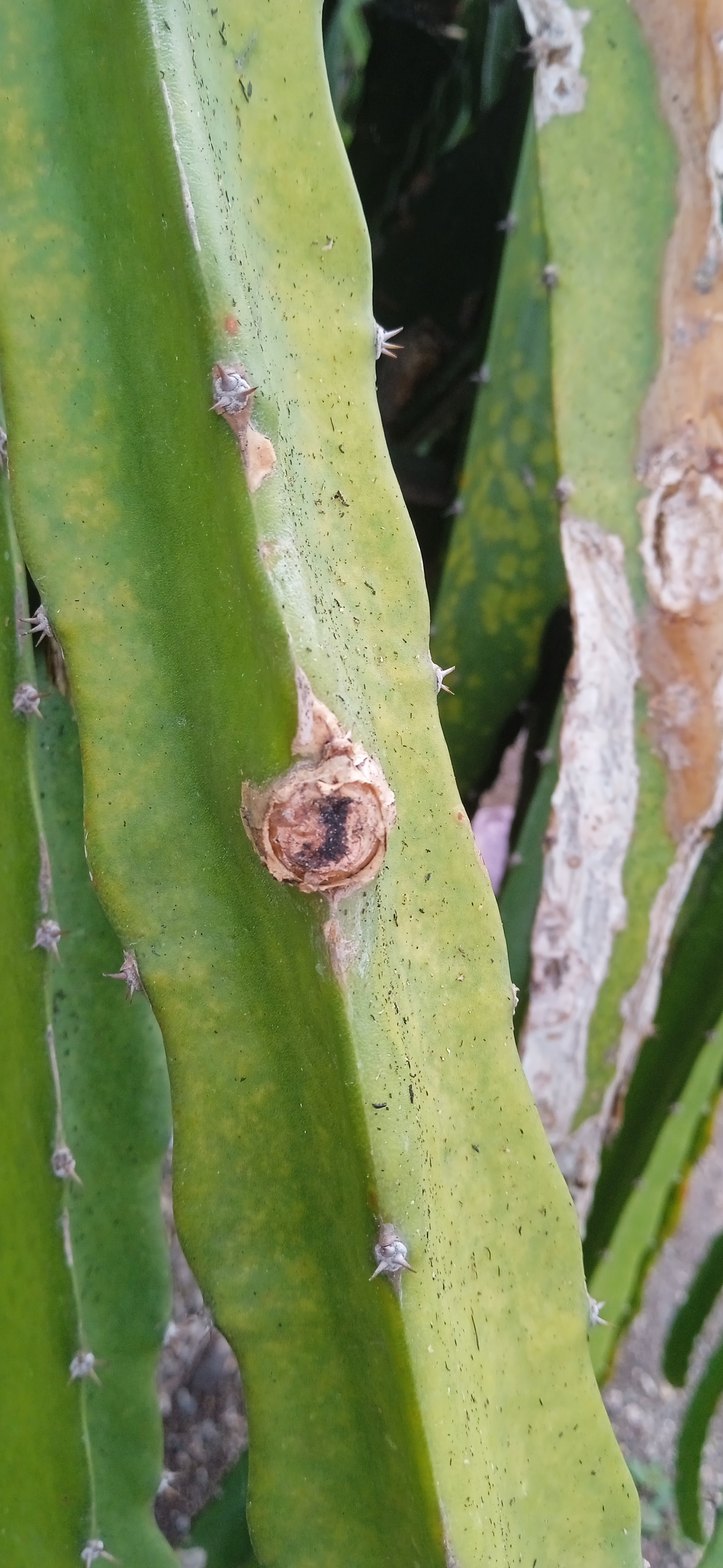stemcanker: (532, 6, 723, 1203), (235, 663, 406, 920), (212, 359, 280, 494)
